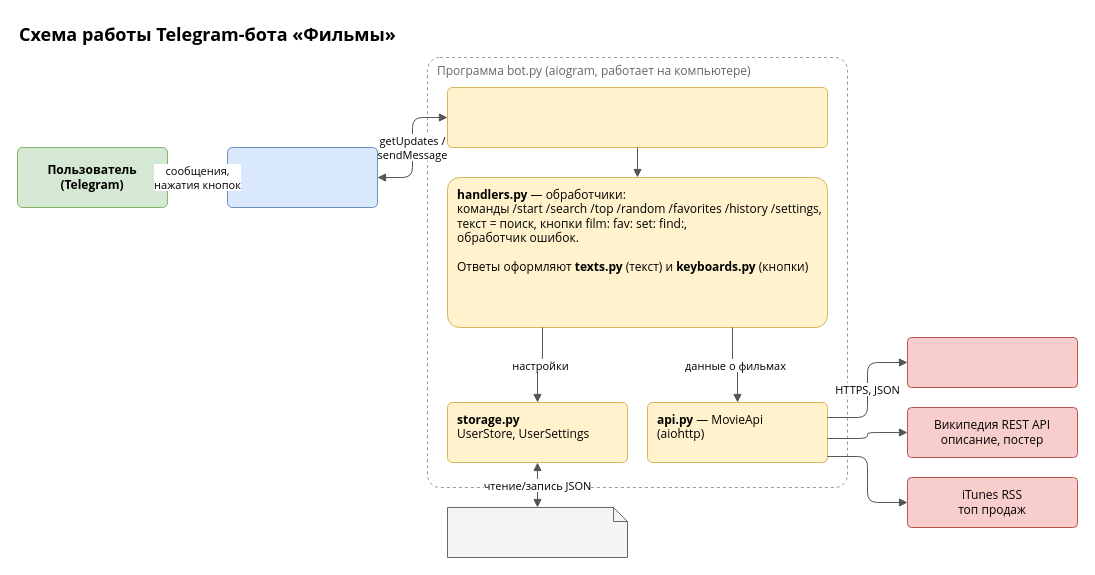
Image size: 1095x575. Some labels were removed from this diagram. The box of each missing label's shape, as (x1, y1, x2, y2) in pixels:
Dispatcher — получает обновления (long polling) и выбирает обработчик: (446, 86, 828, 148)
users.json настройки пользователей: (446, 506, 628, 558)
Викиданные API поиск, факты, оценки: (906, 336, 1078, 388)
Серверы Telegram (Bot API): (226, 146, 378, 208)
